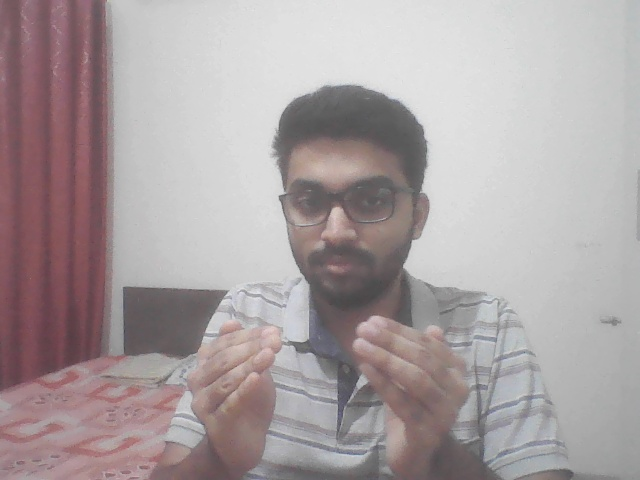small: (169, 303, 484, 474)
